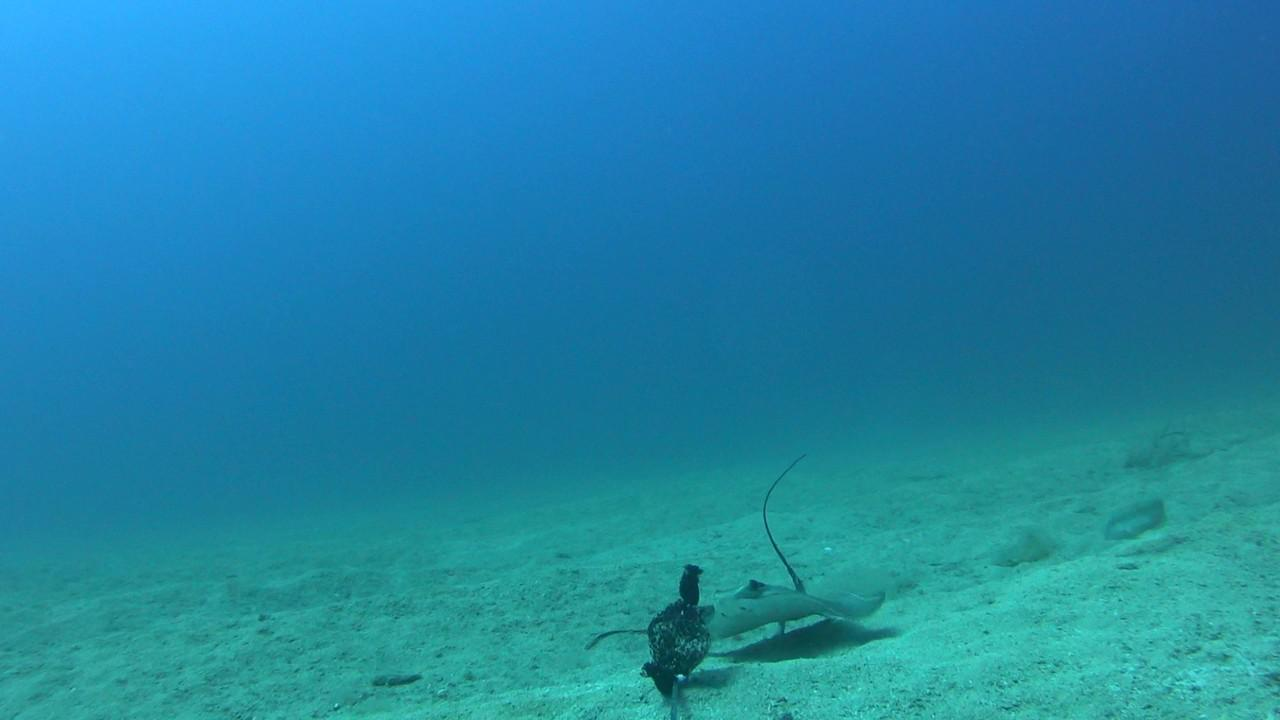myliobatis: (621, 394, 923, 652)
raor: (1100, 494, 1168, 544)
